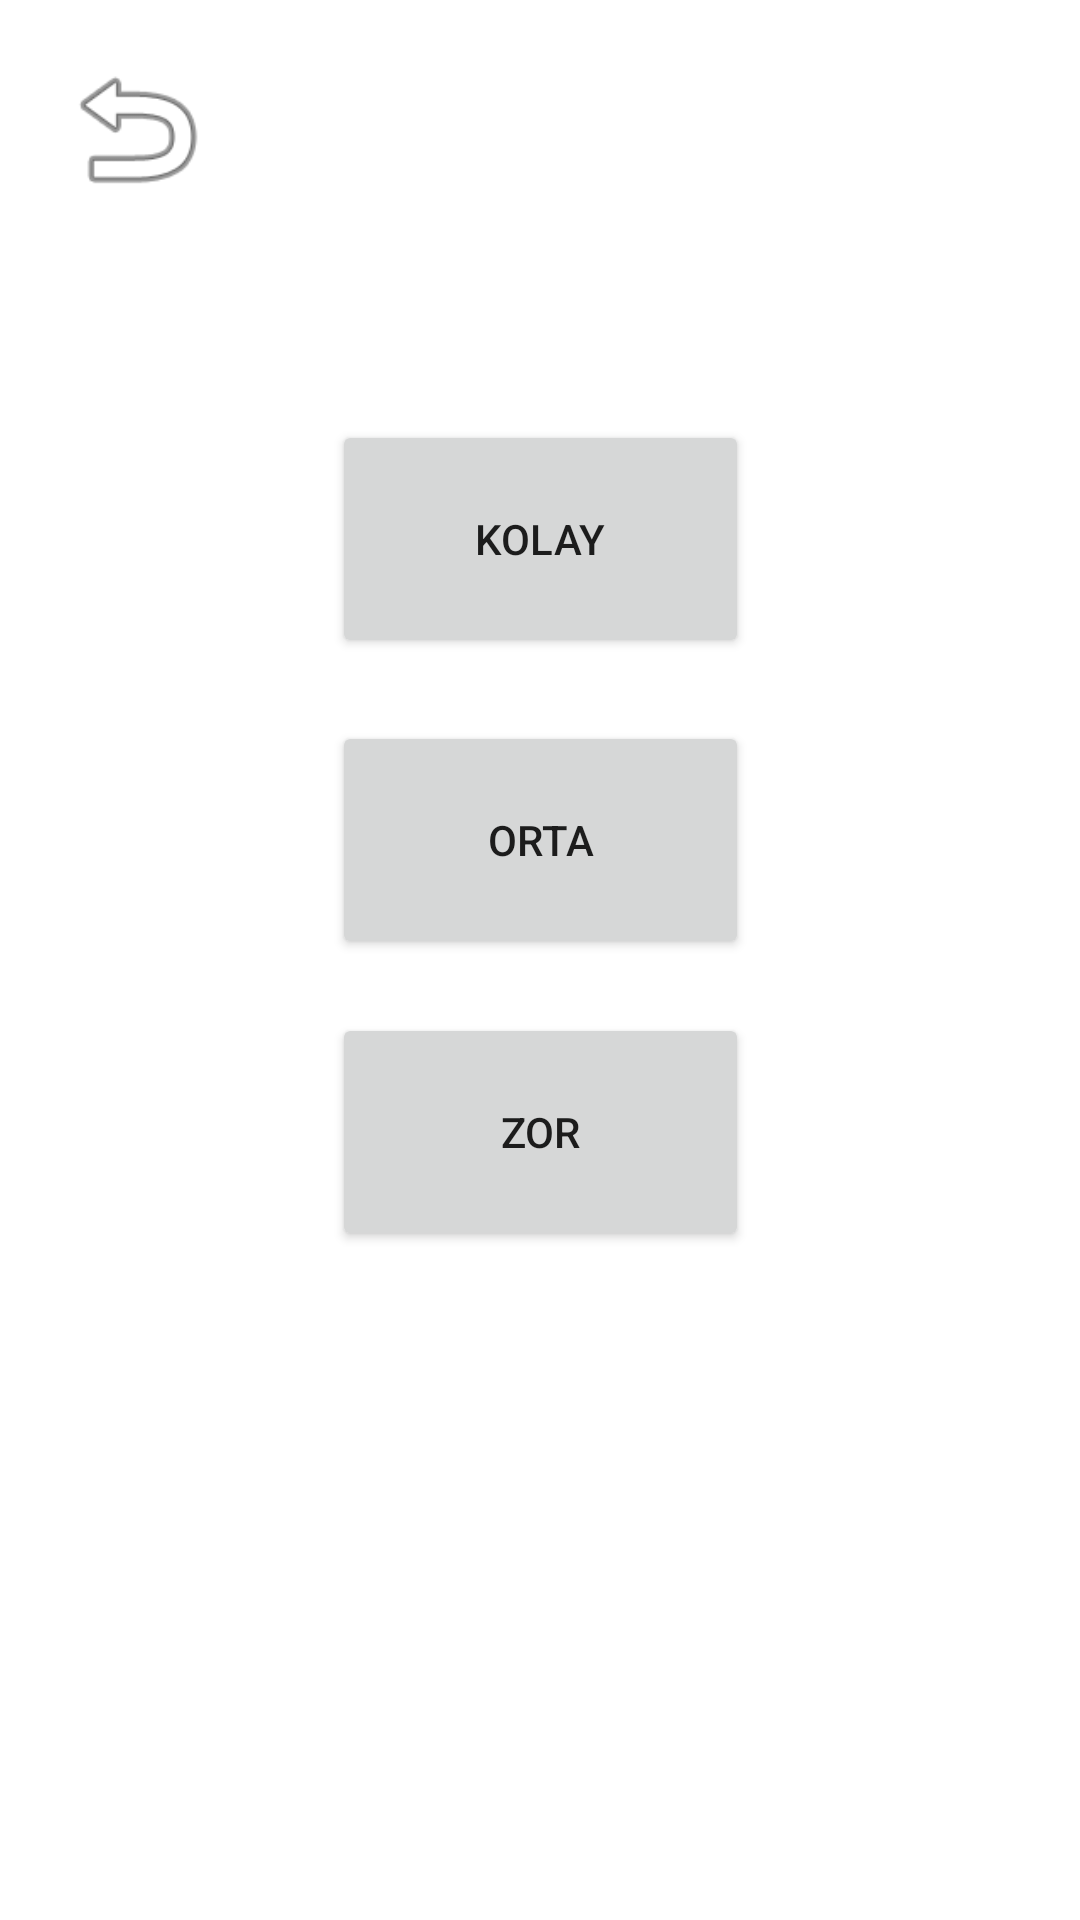

Screen size 1080x1920. Icon name, then its box in pixels as [x1, y1, x2, y2]:
revert: [80, 77, 197, 183]
